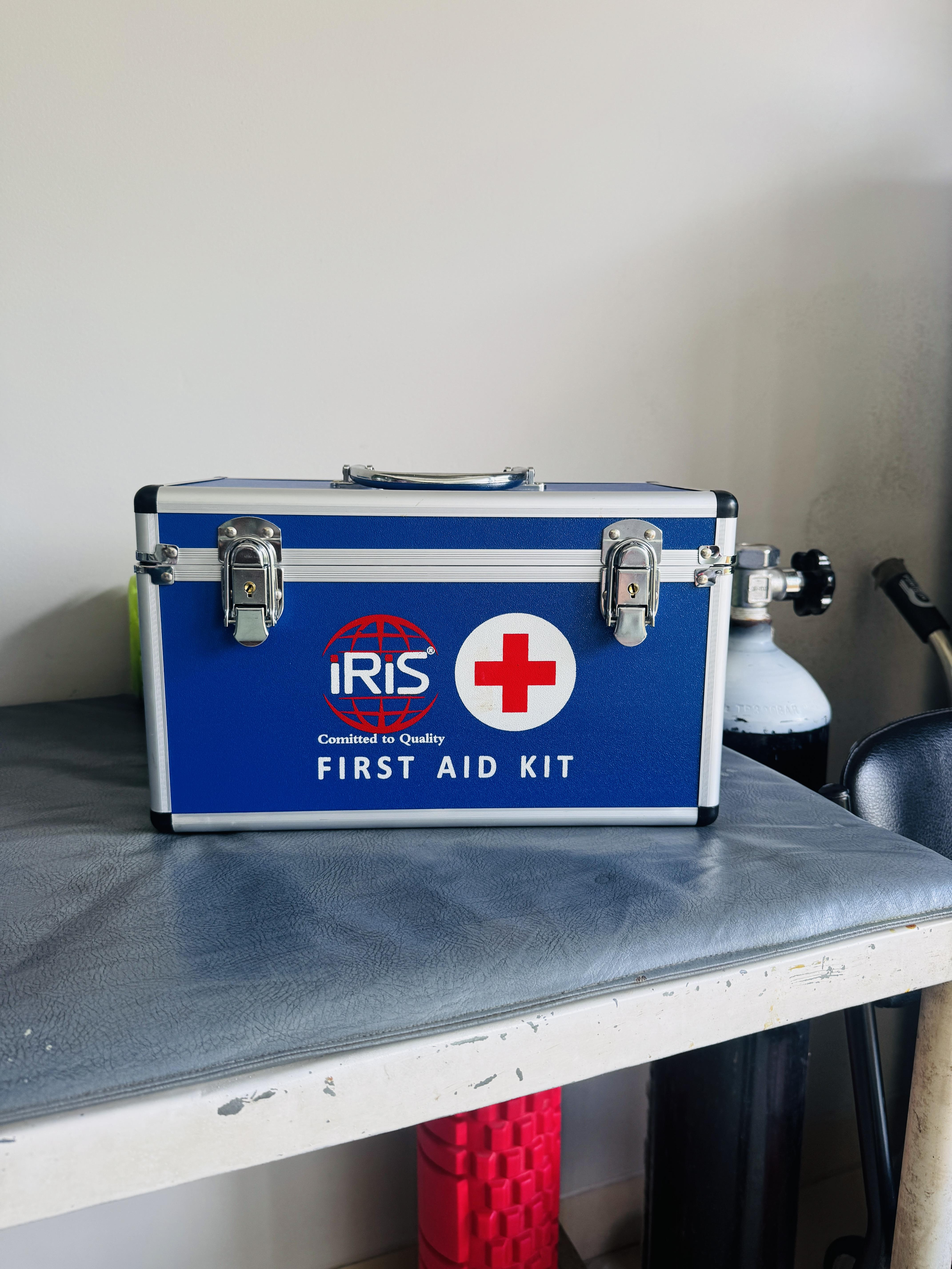FirstAidBox: (116, 441, 775, 861)
